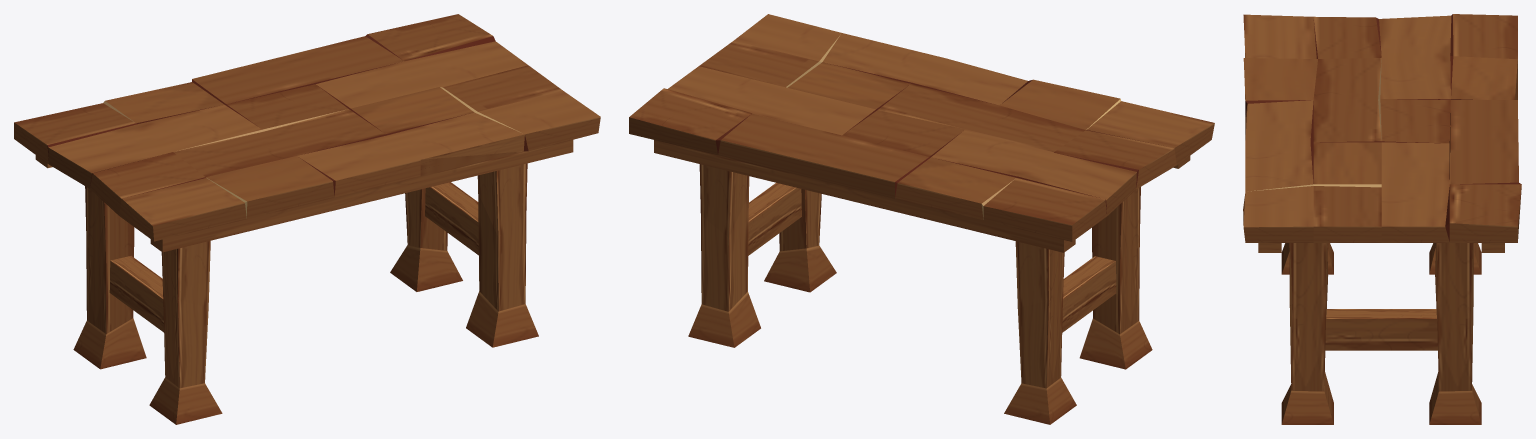
The model's file is CraftingTable.fbx.
3 renders of one model, left to right at view 1: azimuth 30°, elevation 25°; view 2: azimuth 150°, elevation 25°; view 3: azimuth 270°, elevation 25°, orthographic. The views are drawn at different scales.
Parts seen in each view (by area): view 1: CraftingTable; view 2: CraftingTable; view 3: CraftingTable.
Part boxes in pixels (x1,y1,x2,y2): CraftingTable: [14, 14, 600, 424]; CraftingTable: [629, 14, 1214, 424]; CraftingTable: [1243, 14, 1521, 424].
Size of the model in its own units: 1706 by 827 by 945.
